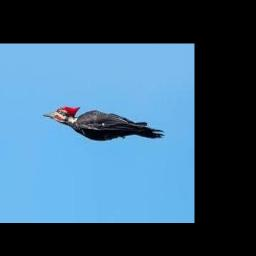Woodpecker: (44, 105, 165, 141)
